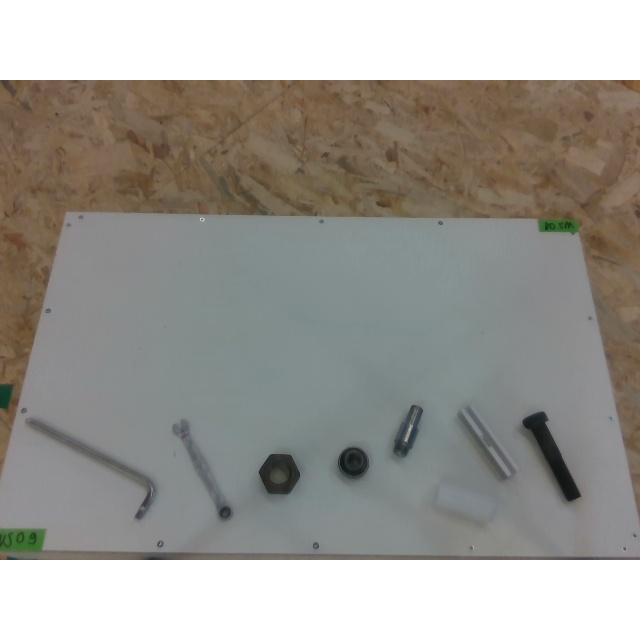AllenKey: (25, 416, 157, 520)
Axis2: (393, 404, 422, 456)
Bearing2: (338, 446, 368, 474)
F20_20_G: (458, 406, 518, 478)
M20_100: (522, 411, 580, 501)
M30: (259, 454, 299, 494)
Spacer: (434, 482, 500, 522)
Wrench: (172, 419, 232, 519)
